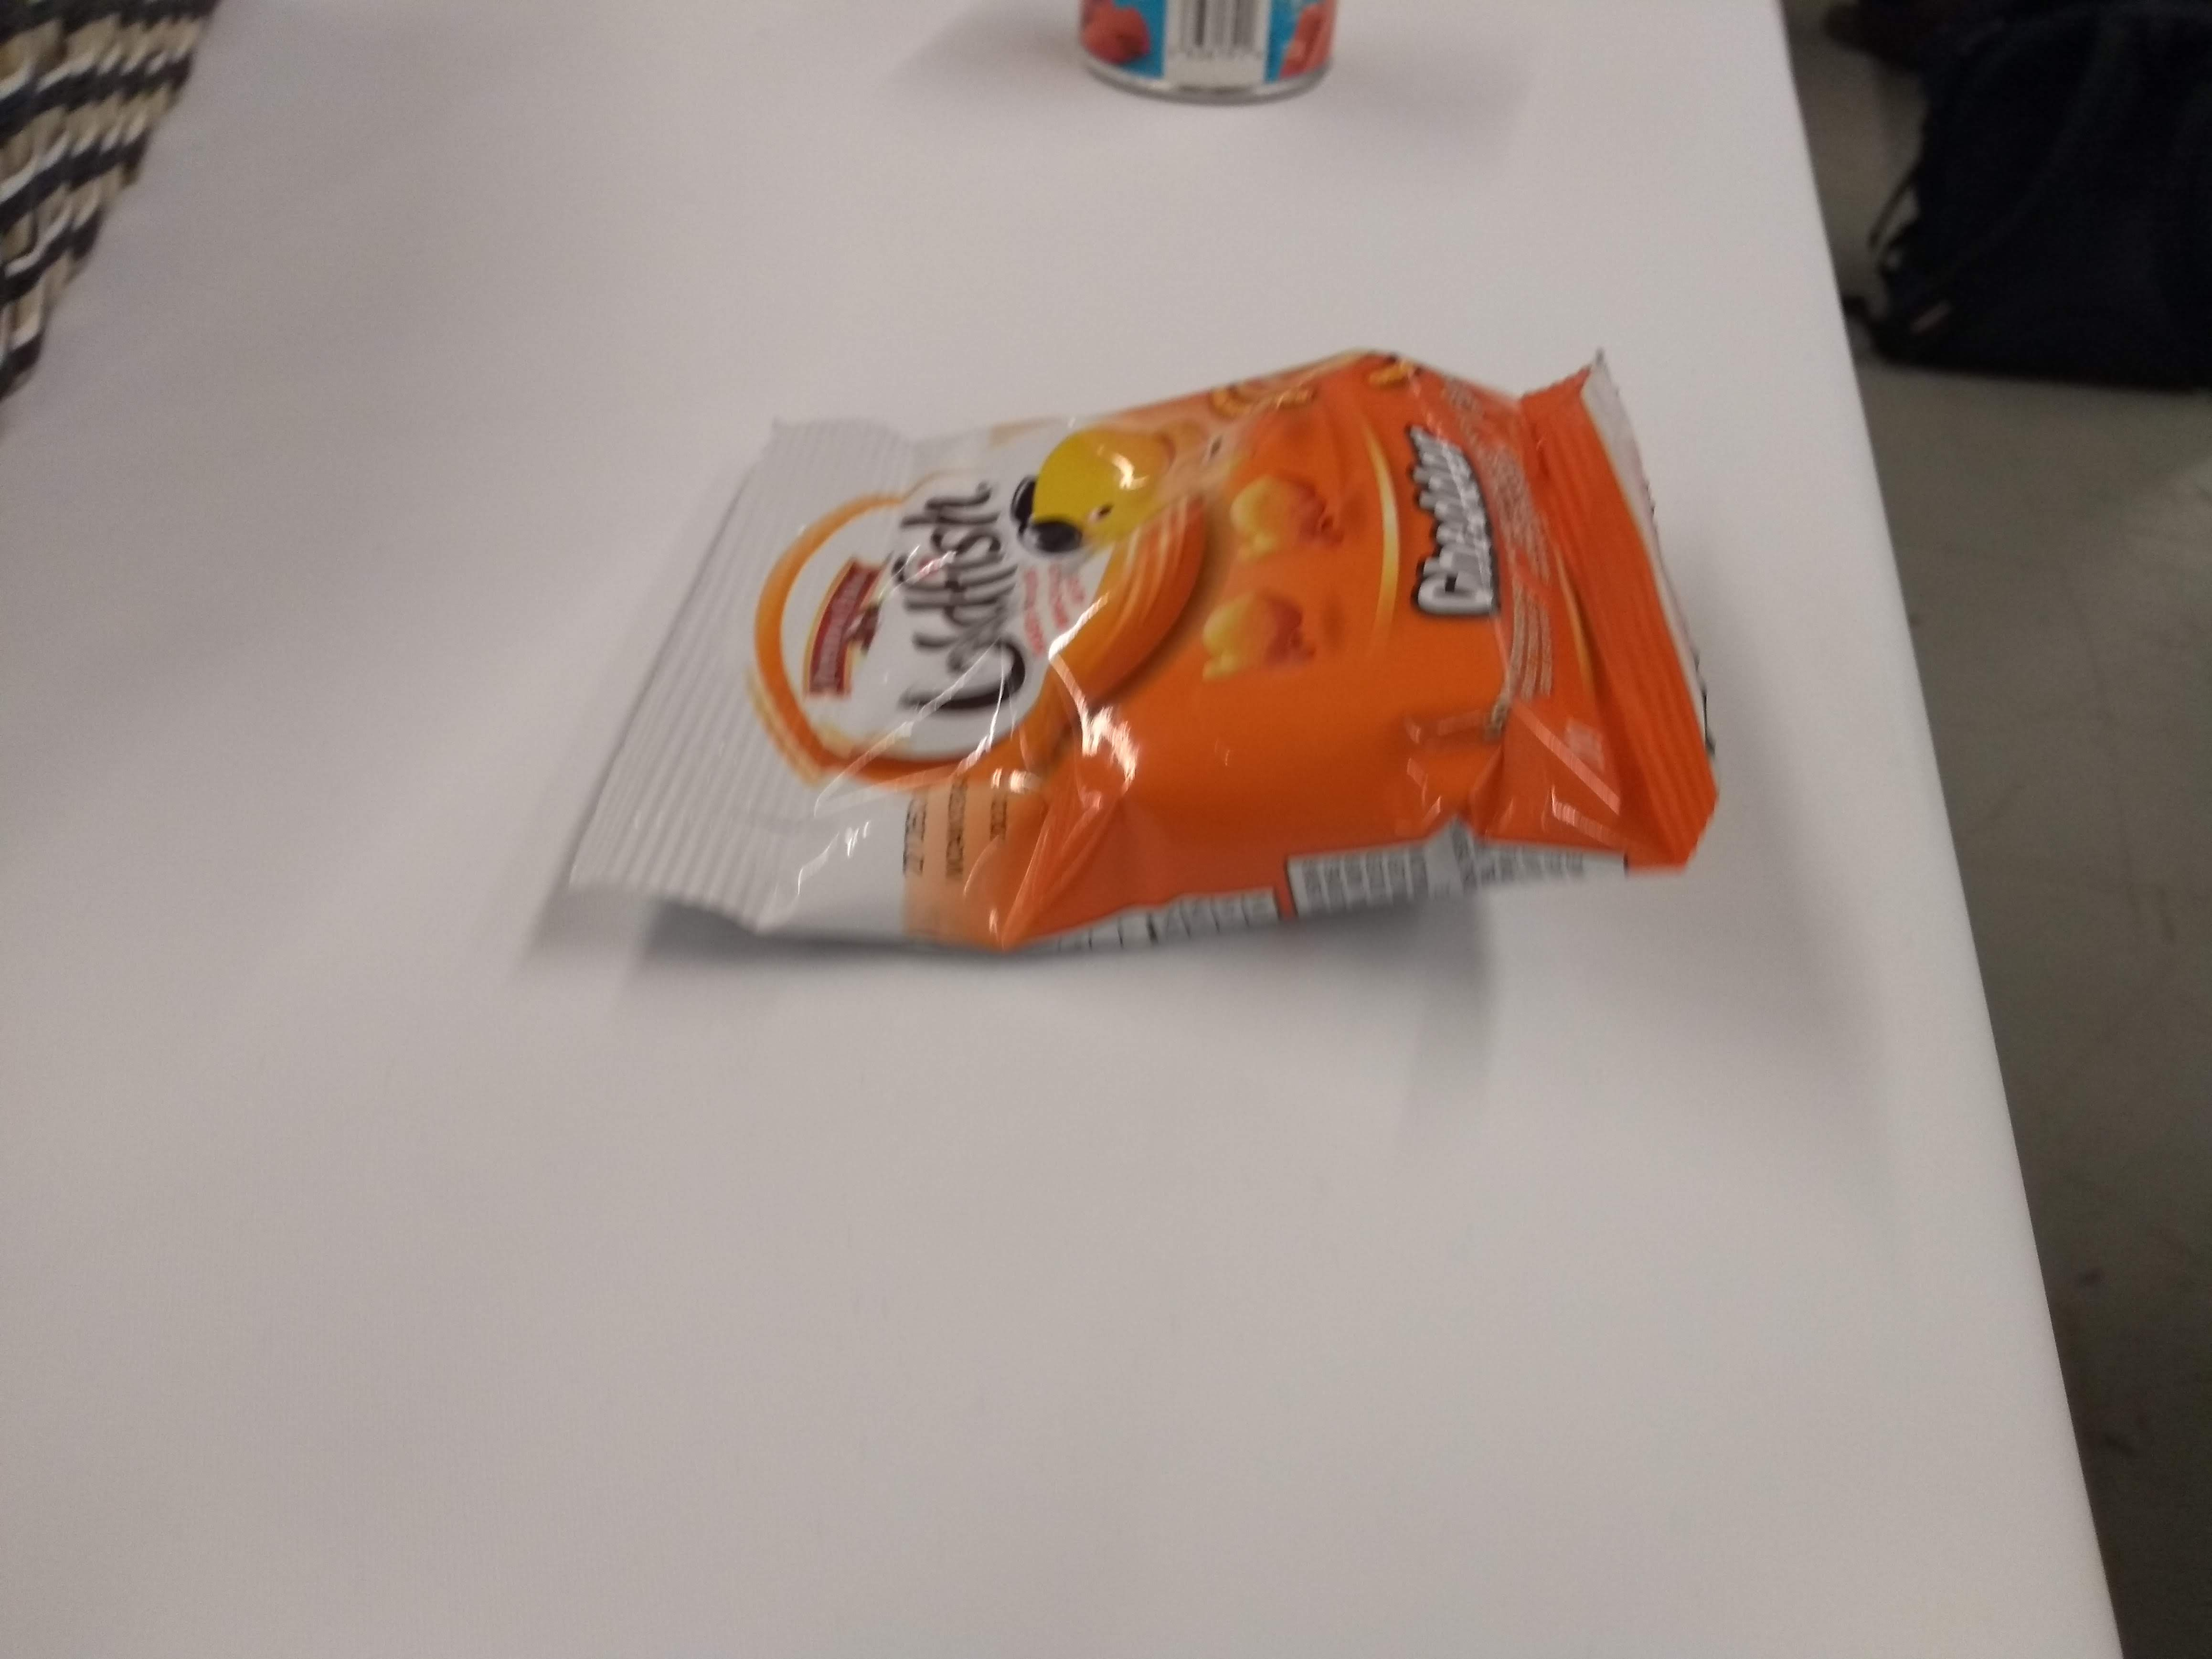crackers: (521, 322, 1745, 997)
